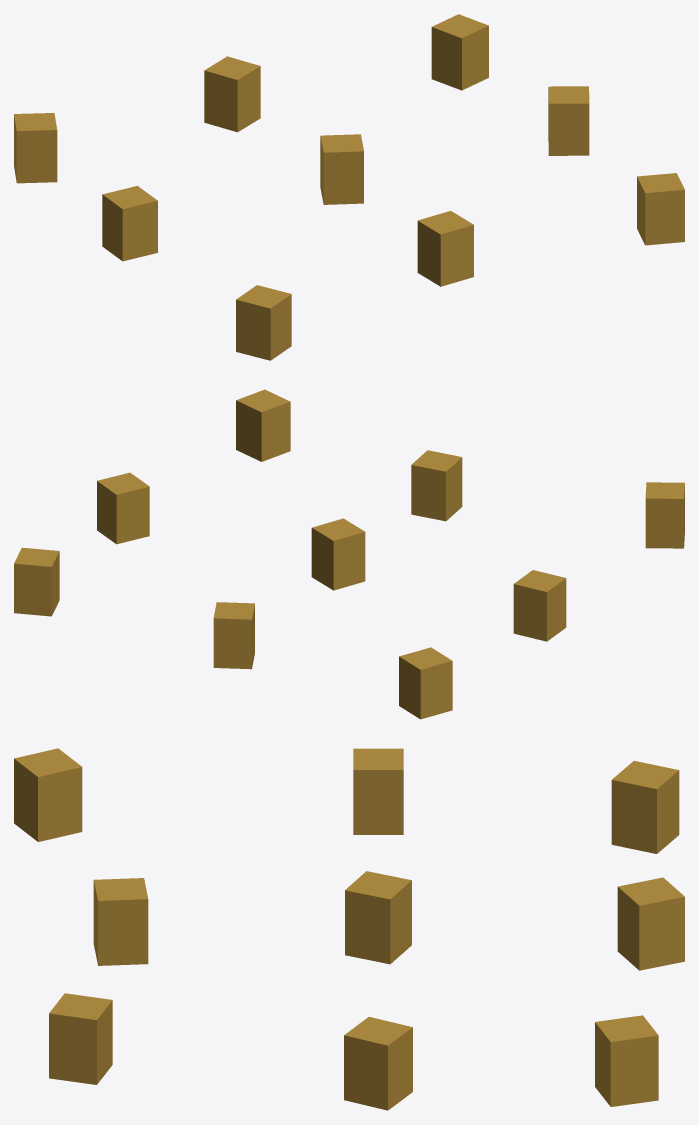
Rendered from wheat_seeded.glb.
3 renders of one model, top to bottom at view 1: azimuth 30°, elevation 25°; view 2: azimuth 150°, elevation 25°; view 3: azimuth 270°, elevation 25°, orthographic. The views are drawn at different scales.
Parts seen in each view (by area): view 1: wheat.003; view 2: wheat.003; view 3: wheat.003.
Part boxes in pixels (box(x1,y1,x2,y2)): wheat.003: box(14, 14, 684, 360); wheat.003: box(14, 389, 684, 719); wheat.003: box(14, 748, 684, 1110).
Bounding box in the file's own units: 0.8289 × 0.1 × 0.7978.
